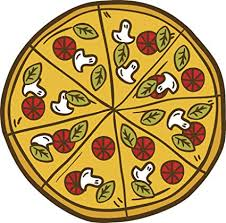pizza: (4, 2, 222, 221)
